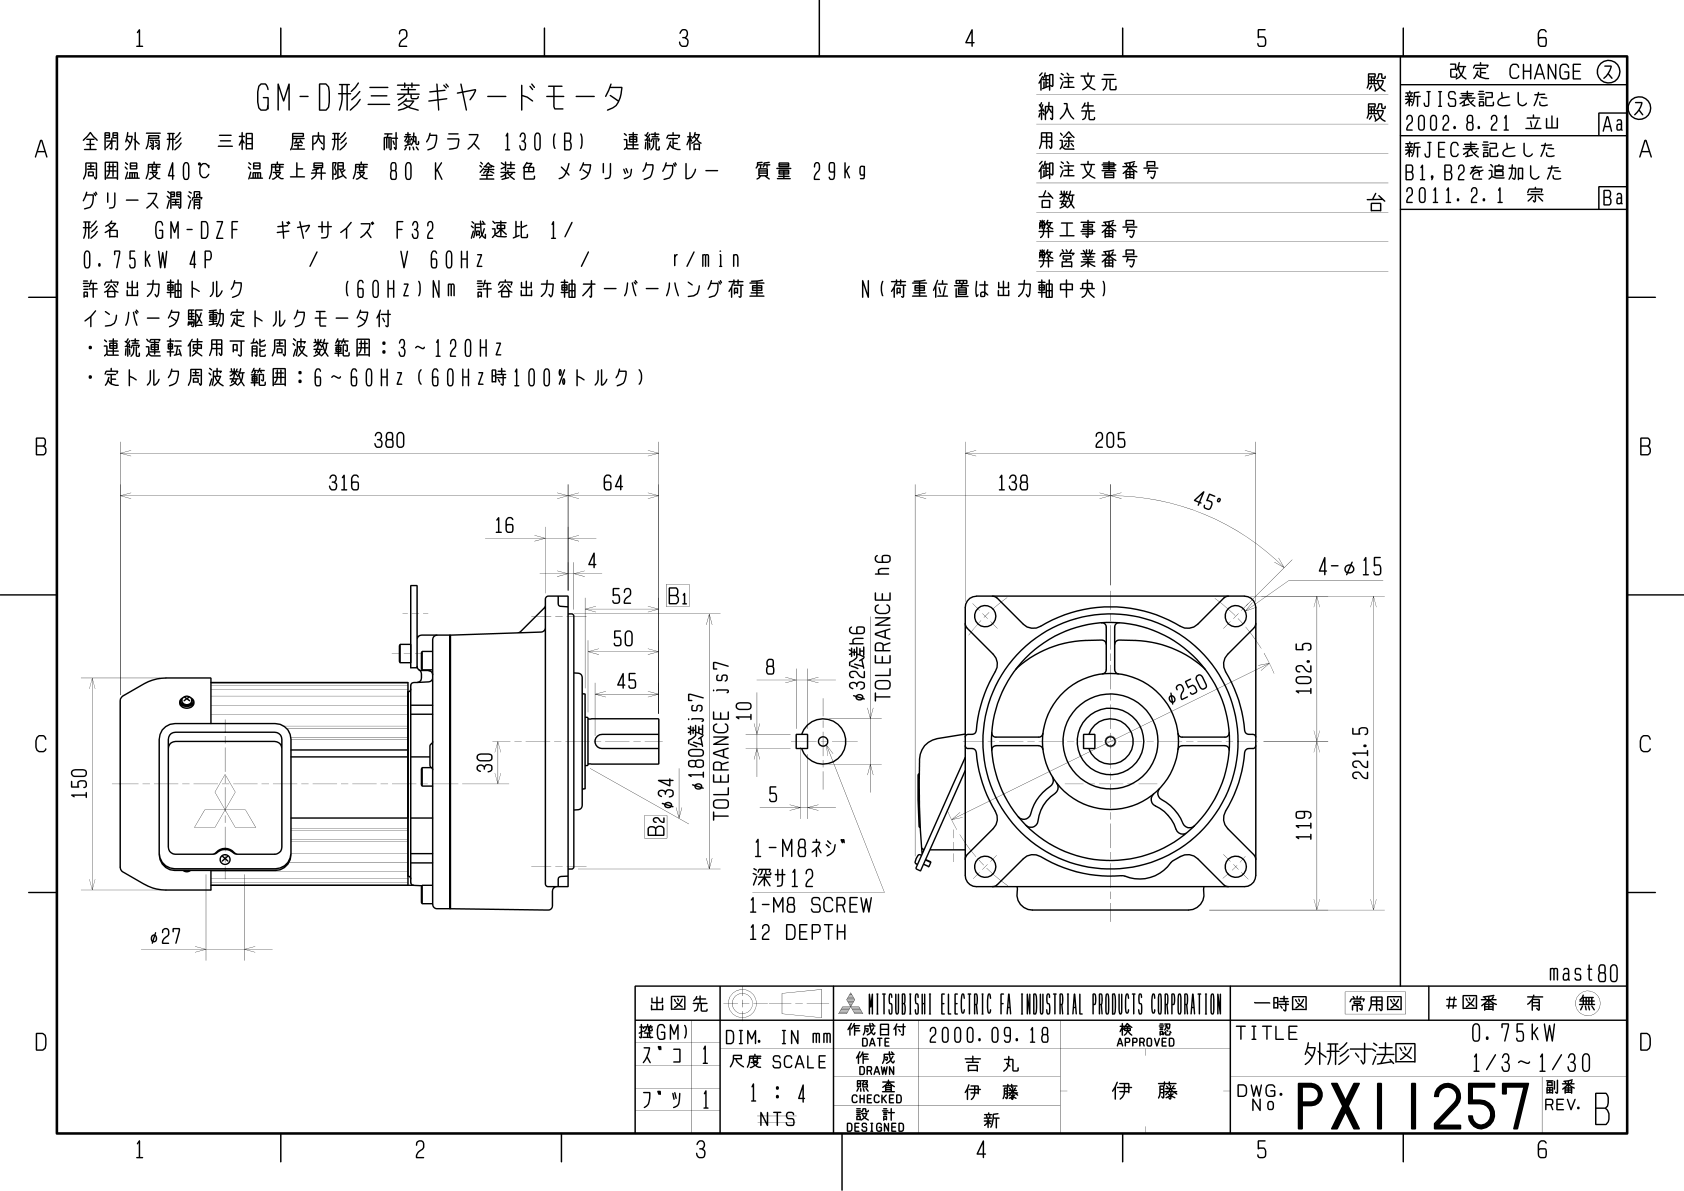GM_D_インバータ屋内_三相_フランジ: (4, 6, 1684, 1176)
